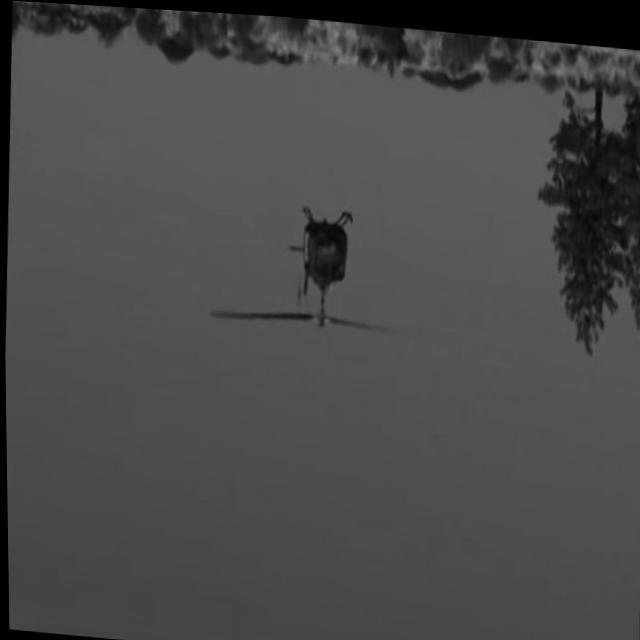helikopter: (235, 161, 398, 344)
